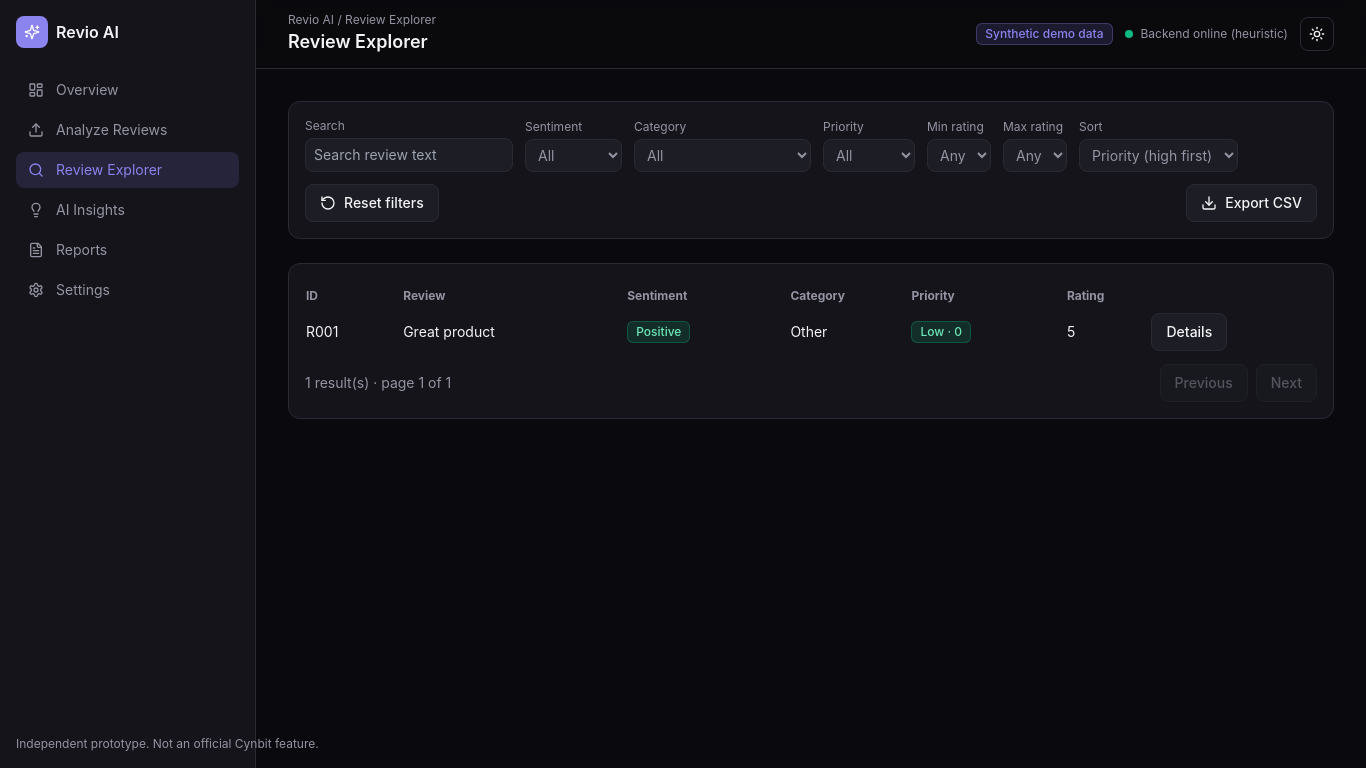
Scenario: App › explorer search and reset hit the API with the right params
The image size is (1366, 768).
Expected: the text "Great product" is shown, [402,312,626,352]
Type "refund" into the field named "Search reviews" at {"x": 409, "y": 155}, box [305,138,513,172]
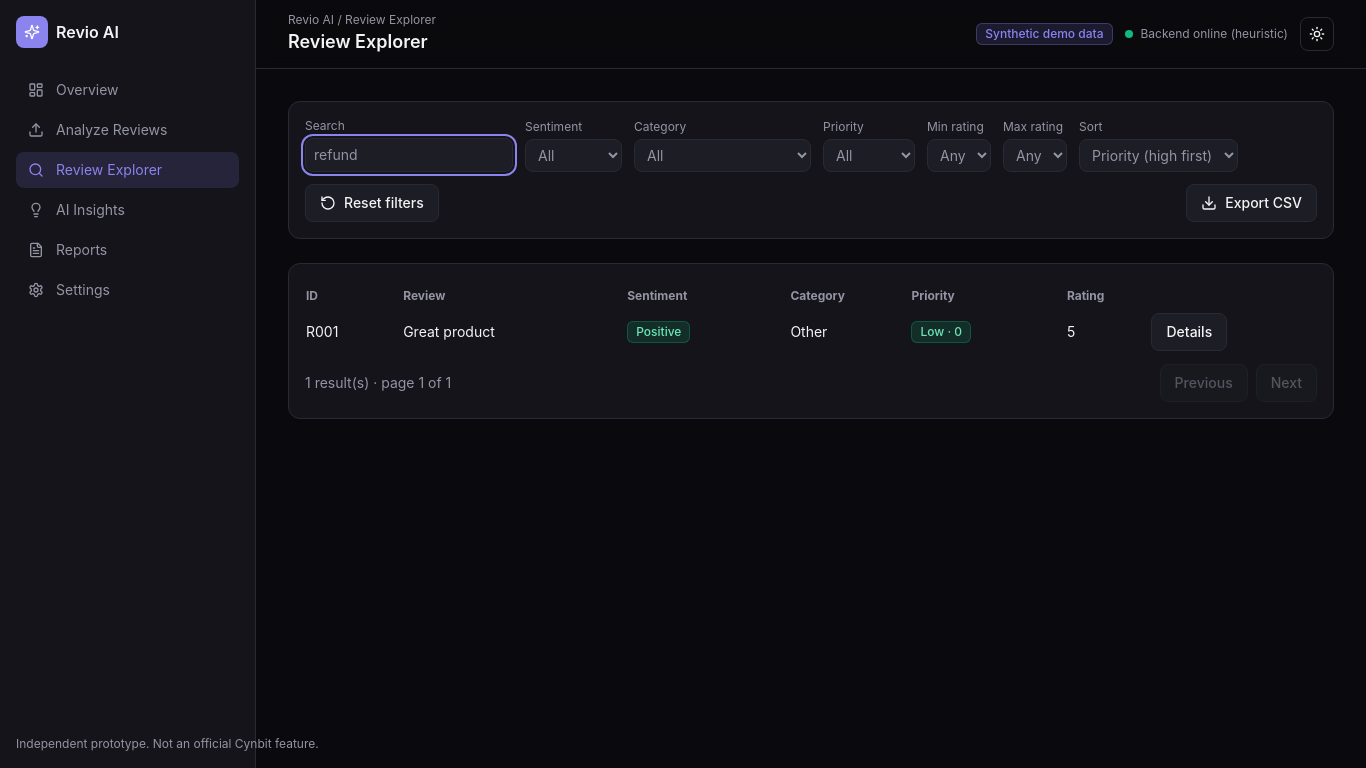
Select "Negative" in the dropdown named "Sentiment filter" at {"x": 574, "y": 156}, box [525,139,622,172]
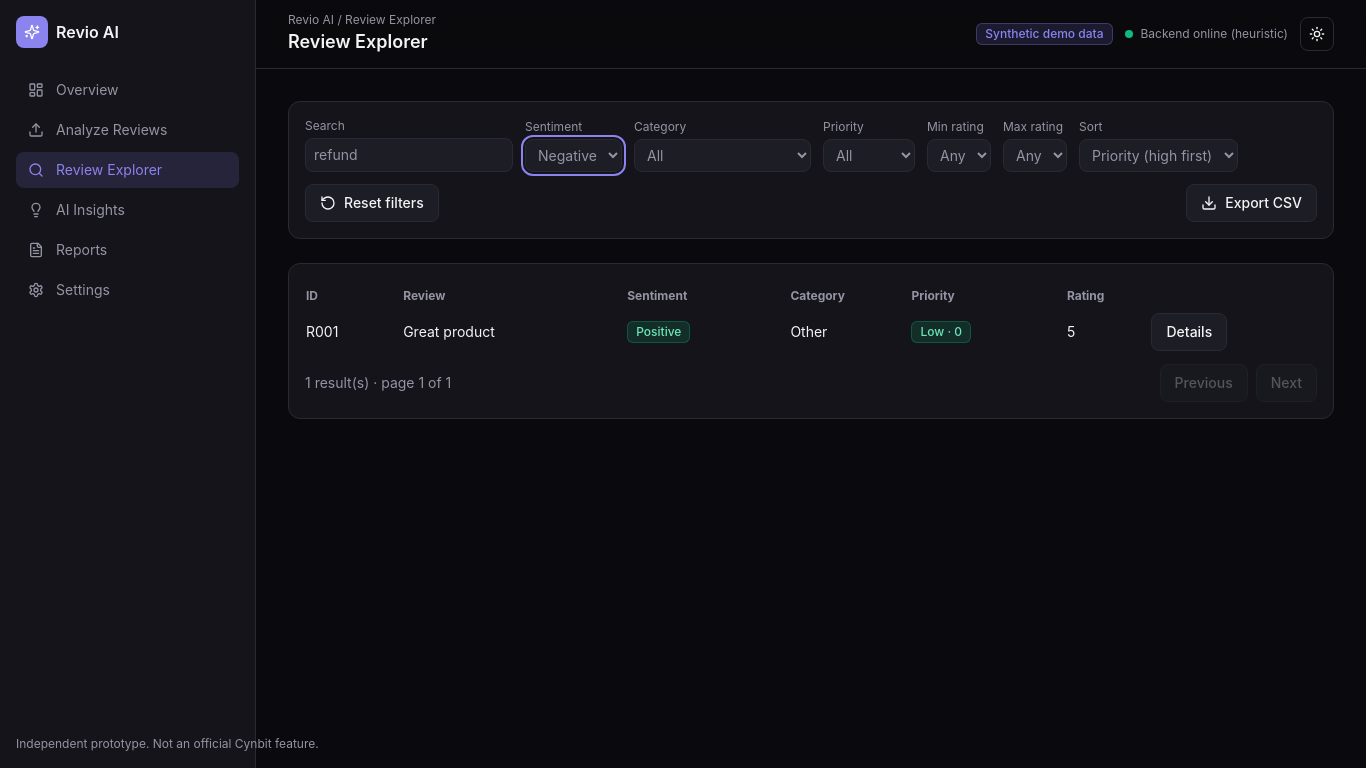
Click the button "Reset filters" at {"x": 372, "y": 203}, box [305,184,439,222]
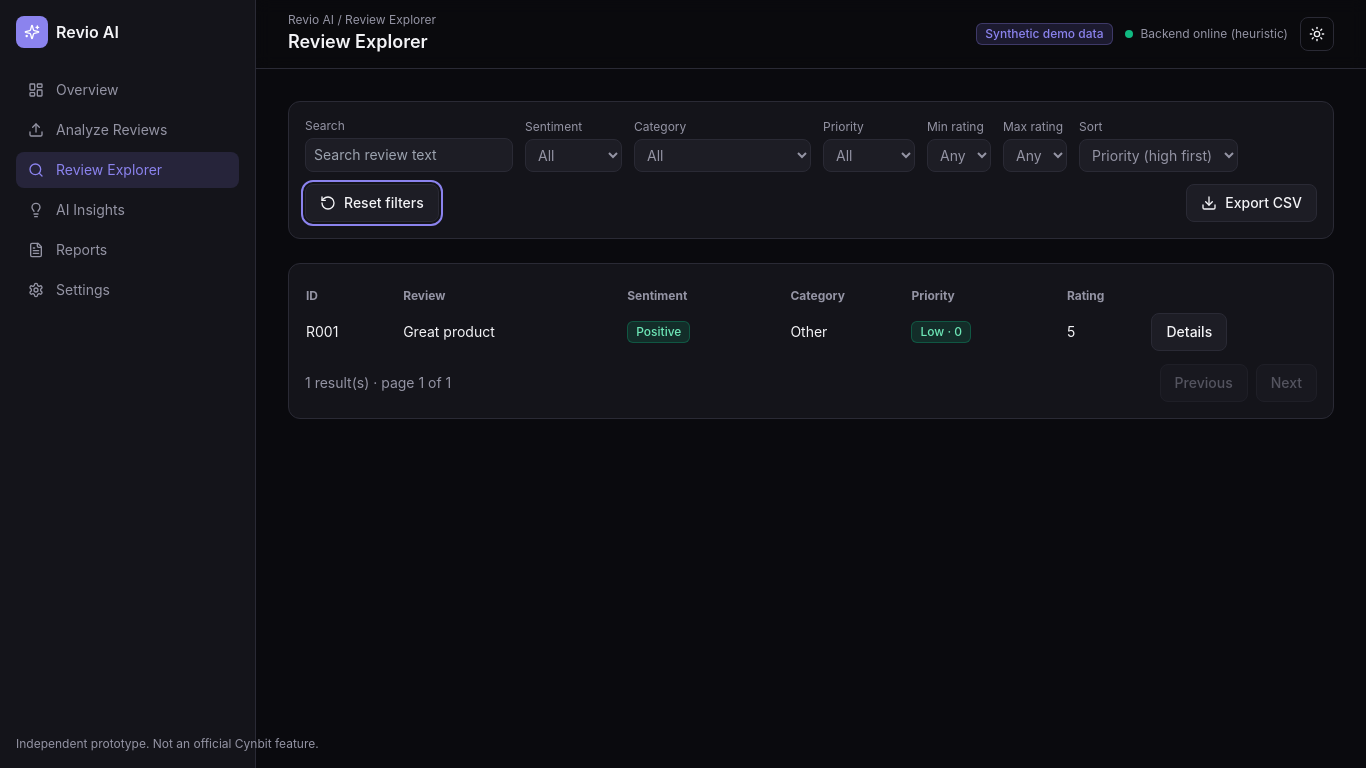
Expected: the field named "Search reviews" is empty, [305,138,513,172]
